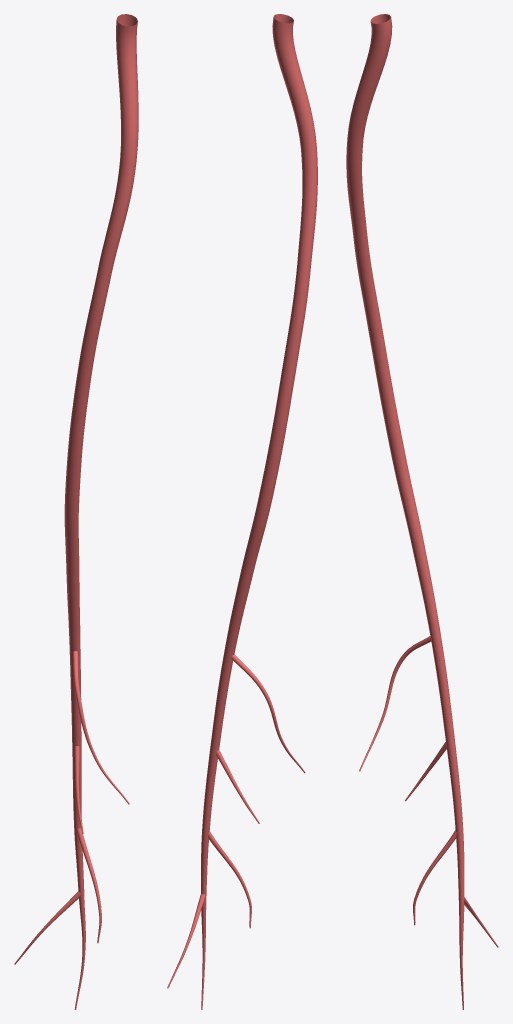
File: Fibular_artery.r_BezierCurve.173.glb
3 renders of one model, left to right at view 1: azimuth 90°, elevation 25°; view 2: azimuth 150°, elevation 25°; view 3: azimuth 330°, elevation 25°, orthographic. The views are drawn at different scales.
Parts seen in each view (by area): view 1: Fibular_artery.r_BezierCurve.173; view 2: Fibular_artery.r_BezierCurve.173; view 3: Fibular_artery.r_BezierCurve.173.
Boxes of the visible parts, x1=… form: Fibular_artery.r_BezierCurve.173: x1=14, y1=14, x2=138, y2=1009; Fibular_artery.r_BezierCurve.173: x1=167, y1=14, x2=317, y2=1009; Fibular_artery.r_BezierCurve.173: x1=346, y1=14, x2=498, y2=1009.
Bounding box in the file's own units: 0.0329 × 0.3117 × 0.0345.
